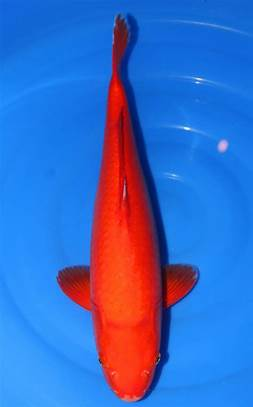red: (57, 11, 197, 404)
